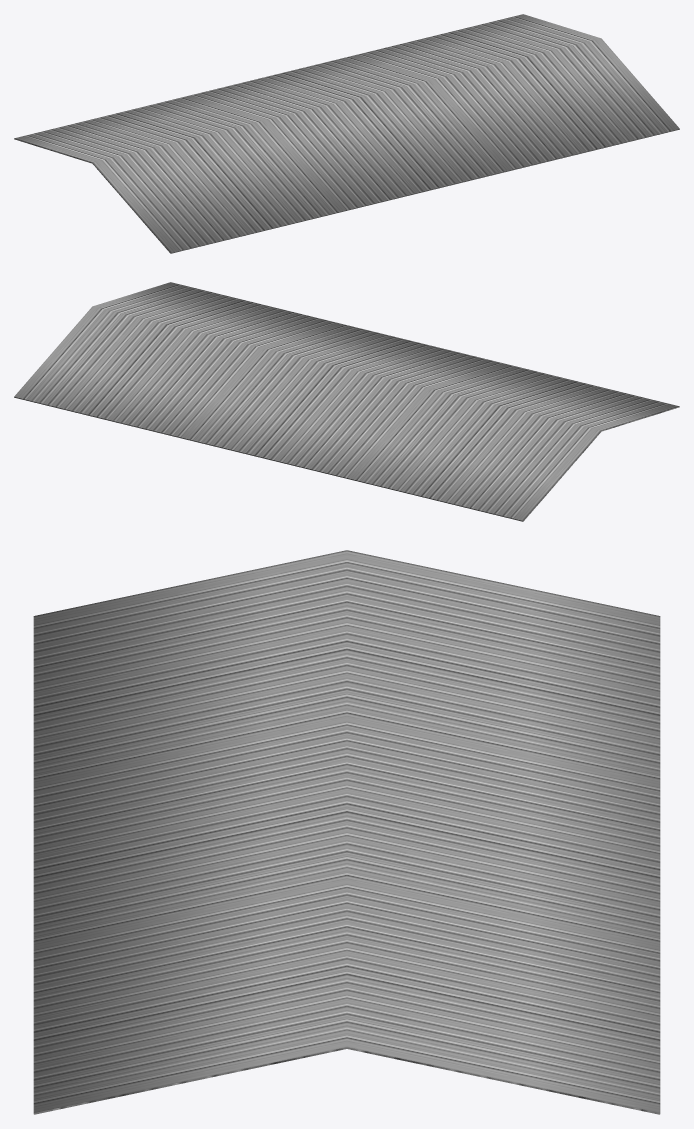
Rendered from waste-storage-ROOF.glb.
3 views of the same model, one above another, from view 1: azimuth 30°, elevation 25°; view 2: azimuth 150°, elevation 25°; view 3: azimuth 270°, elevation 25° (orthographic). The views are drawn at different scales.
Visible parts, largest first — view 1: Shape002; view 2: Shape002; view 3: Shape002.
Part boxes in pixels (x1=…): Shape002: x1=14, y1=14, x2=679, y2=253; Shape002: x1=14, y1=282, x2=679, y2=521; Shape002: x1=33, y1=550, x2=660, y2=1114.
Size of the model in its own units: 30.6 by 1.94 by 16.31.
Materials: 1 (1 with a texture image).
